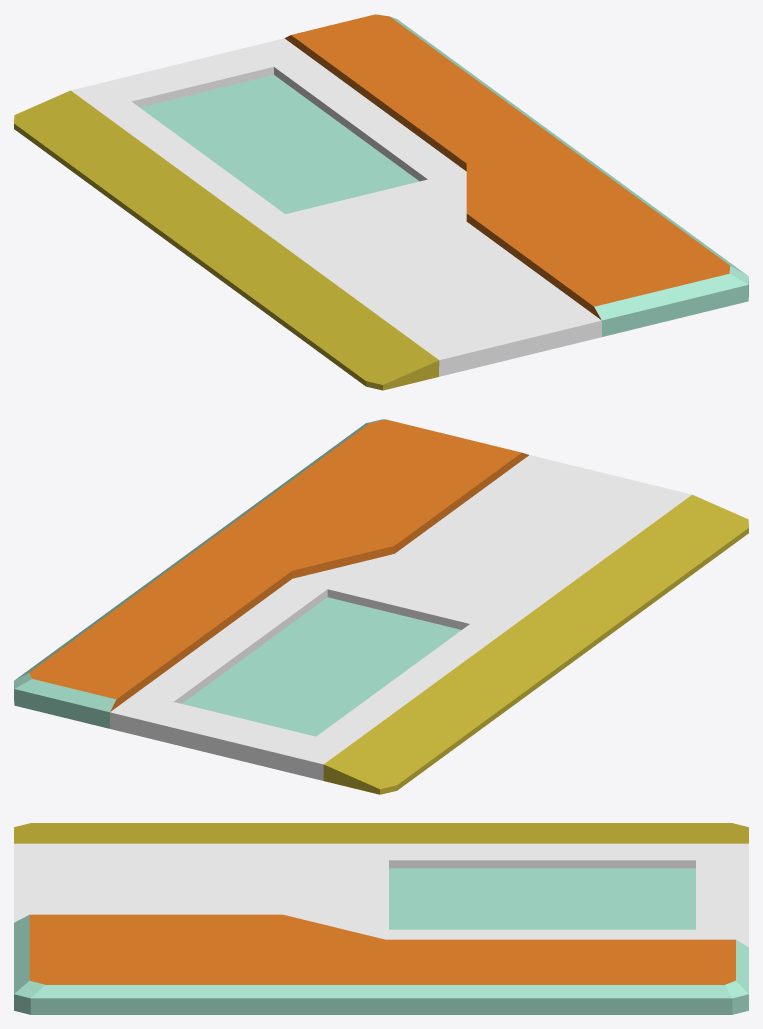
3 renders of one model, top to bottom at view 1: azimuth 30°, elevation 25°; view 2: azimuth 150°, elevation 25°; view 3: azimuth 270°, elevation 25°, orthographic.
Parts seen in each view (by area): view 1: 立方體; view 2: 立方體; view 3: 立方體.
Part boxes in pixels (x1,y1,x2,y2): 立方體: (14,14,748,390); 立方體: (14,419,748,794); 立方體: (14,823,748,1014).
Bounding box in the file's own units: 20.25 × 1.25 × 33.75.
